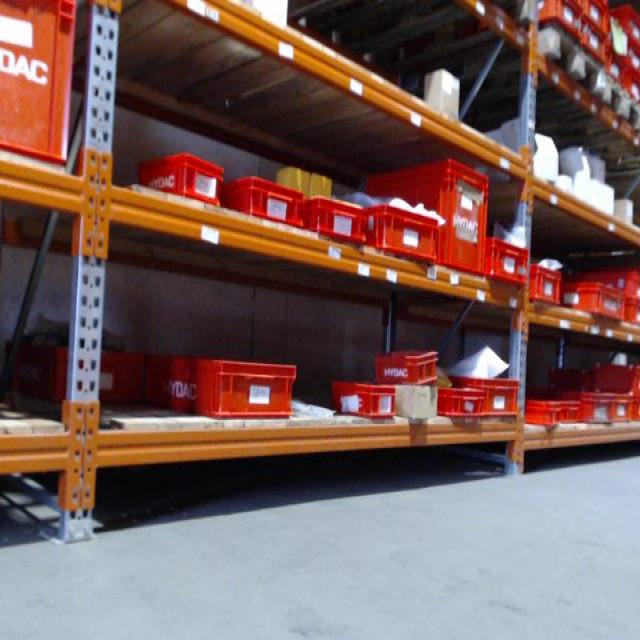pallet: (371, 18, 604, 151), (604, 56, 640, 151)
small_load_carrier: (358, 152, 489, 280), (0, 2, 88, 189), (140, 356, 296, 421), (131, 143, 231, 216), (47, 341, 146, 407), (222, 172, 310, 237), (363, 204, 441, 265), (437, 364, 518, 419), (556, 278, 628, 328), (302, 195, 368, 246), (328, 376, 396, 425), (374, 340, 444, 386), (490, 6, 576, 41), (485, 234, 530, 289), (561, 384, 612, 426), (585, 264, 640, 299), (430, 378, 480, 415), (526, 259, 563, 308), (579, 16, 610, 70), (522, 390, 563, 429), (590, 54, 617, 102), (572, 0, 603, 35), (609, 3, 640, 37), (597, 369, 638, 393), (602, 25, 628, 60), (616, 34, 635, 76), (609, 391, 633, 423), (561, 396, 586, 426), (621, 298, 639, 332), (621, 75, 639, 109), (634, 398, 640, 424)
